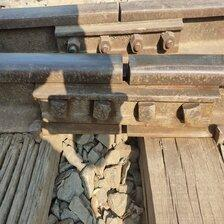railway-gap: (100, 46, 153, 93), (99, 0, 140, 28), (111, 118, 134, 142)
